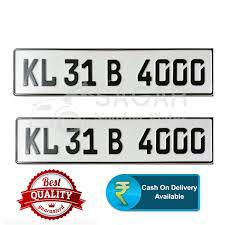0: (155, 127, 172, 155), (171, 59, 188, 86), (172, 127, 188, 155), (154, 59, 170, 87), (190, 128, 206, 155), (190, 59, 206, 86)
1: (80, 58, 98, 88), (82, 127, 99, 156)
3: (63, 57, 80, 87), (64, 127, 82, 155)
4: (136, 127, 154, 155), (136, 58, 153, 87)
B: (107, 128, 125, 156), (105, 59, 122, 87)
K: (20, 58, 39, 88), (22, 126, 40, 155)
L: (39, 56, 58, 87), (41, 127, 59, 155)
